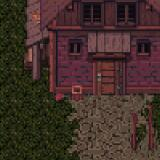Interaction: (127, 114, 160, 156)
Obstacle: (0, 0, 160, 131)
